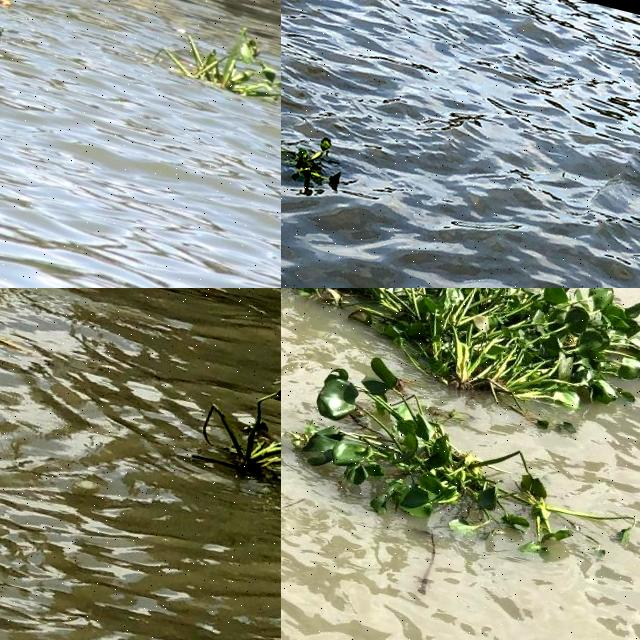water-hyacinth: (282, 341, 640, 588), (289, 289, 640, 436), (177, 345, 282, 520), (149, 10, 282, 118), (282, 126, 365, 205)
